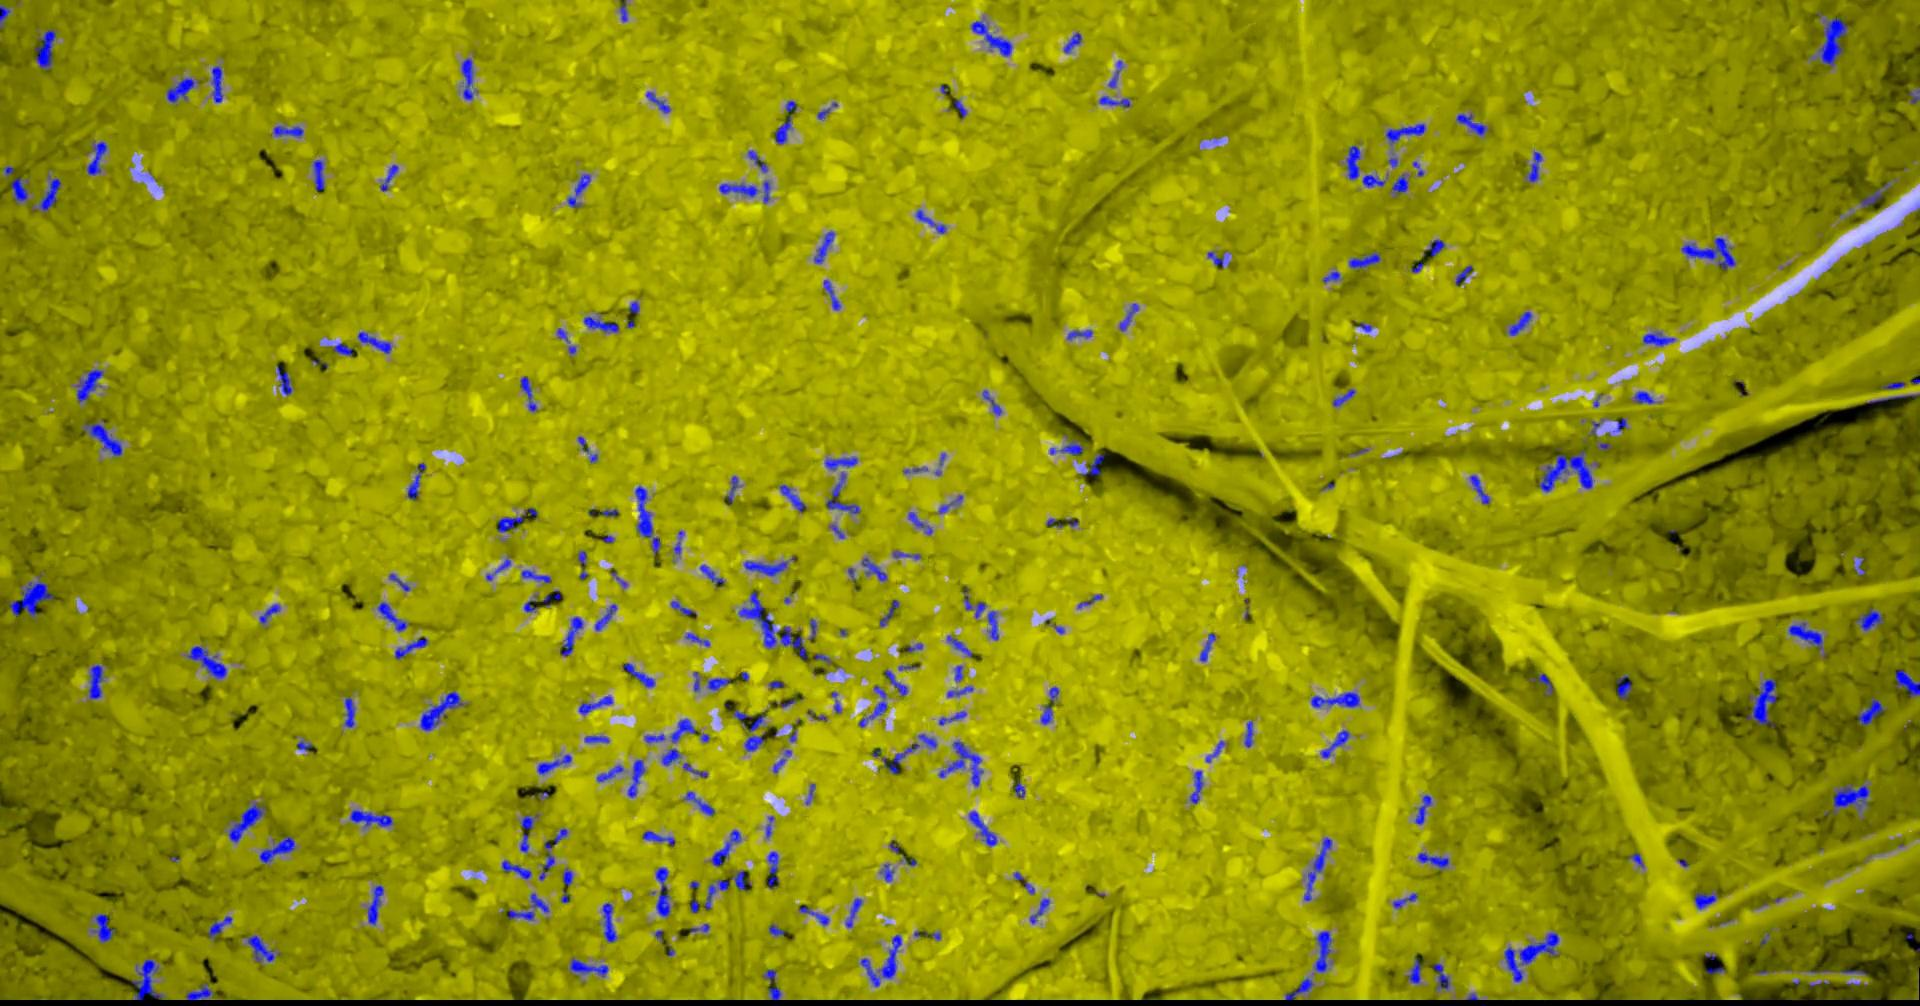ant: (737, 591, 806, 659), (1503, 932, 1559, 982), (1537, 447, 1592, 492), (860, 934, 902, 986), (938, 741, 982, 786), (8, 575, 53, 617), (634, 485, 660, 554), (1303, 837, 1331, 901), (419, 691, 463, 730), (1681, 238, 1735, 269), (1745, 678, 1777, 727), (1817, 17, 1848, 66), (538, 828, 568, 879), (229, 803, 265, 842), (970, 20, 1011, 56), (825, 471, 858, 513), (84, 419, 121, 455), (187, 645, 226, 678), (130, 959, 163, 998), (881, 742, 919, 774), (1831, 782, 1869, 814), (858, 685, 886, 727), (710, 829, 740, 866), (497, 507, 537, 532), (968, 810, 996, 846), (259, 835, 295, 862), (1787, 622, 1822, 649), (775, 100, 796, 144), (559, 616, 582, 655), (377, 602, 406, 631), (76, 370, 103, 401), (248, 935, 279, 962), (622, 662, 655, 687), (1857, 696, 1884, 725), (1385, 123, 1425, 144), (566, 174, 590, 207), (1310, 691, 1359, 708), (523, 589, 560, 611), (778, 484, 806, 512), (1321, 730, 1349, 758), (36, 29, 55, 70), (703, 879, 729, 909), (38, 174, 60, 210), (166, 77, 198, 102), (963, 586, 985, 619), (394, 636, 427, 659), (1859, 182, 1888, 207), (357, 332, 391, 353), (683, 791, 714, 815), (655, 868, 670, 916), (569, 956, 607, 976), (1313, 931, 1331, 972), (349, 809, 392, 826), (91, 913, 116, 942), (916, 210, 946, 232), (813, 231, 834, 263), (731, 709, 763, 730), (743, 560, 787, 575), (1040, 686, 1058, 724), (1895, 669, 1919, 697), (1285, 976, 1313, 1000), (86, 141, 107, 174), (1457, 113, 1487, 135), (408, 462, 425, 499), (537, 754, 571, 774), (1855, 607, 1883, 630), (367, 885, 383, 923), (601, 902, 616, 942), (669, 718, 695, 742), (578, 696, 612, 714), (627, 760, 644, 796), (1469, 474, 1490, 503), (519, 376, 536, 412), (1507, 311, 1531, 335), (207, 915, 231, 939), (907, 511, 932, 533), (485, 558, 510, 580), (861, 558, 886, 580), (884, 669, 907, 695), (1417, 852, 1448, 871), (797, 906, 828, 925), (717, 183, 758, 197), (502, 860, 531, 879), (594, 605, 616, 630), (946, 635, 971, 657), (1528, 673, 1553, 695), (823, 279, 841, 310), (583, 316, 618, 332), (1865, 392, 1919, 403), (762, 969, 780, 1000), (1049, 439, 1083, 455), (1079, 453, 1103, 475), (698, 564, 723, 586), (460, 58, 472, 99), (645, 91, 670, 112), (1029, 898, 1049, 923), (519, 815, 533, 852), (378, 164, 397, 191), (1119, 304, 1138, 330), (879, 600, 898, 626), (1349, 251, 1379, 268), (1415, 794, 1431, 824), (982, 390, 1001, 415), (643, 831, 674, 846), (844, 898, 861, 927), (1345, 145, 1359, 179), (88, 664, 102, 699), (9, 177, 27, 203), (1407, 956, 1425, 983), (276, 365, 291, 395), (1642, 332, 1675, 345), (1199, 633, 1215, 661), (596, 765, 623, 781), (1189, 770, 1203, 803), (1432, 962, 1449, 989), (185, 983, 213, 1000), (747, 150, 767, 171), (938, 495, 963, 513), (211, 65, 222, 102), (767, 851, 778, 888), (744, 730, 764, 751), (1390, 173, 1410, 194), (1205, 741, 1224, 762), (1528, 151, 1542, 180), (1332, 389, 1355, 406), (773, 749, 791, 772), (1693, 892, 1716, 909), (938, 710, 966, 724), (273, 124, 303, 137), (682, 762, 707, 777), (730, 870, 750, 889), (1392, 892, 1417, 907), (1063, 32, 1081, 53), (824, 457, 857, 469), (1109, 60, 1123, 86), (521, 569, 550, 582), (670, 600, 695, 615), (1615, 674, 1630, 699), (312, 159, 324, 191), (530, 893, 549, 912), (389, 573, 409, 591), (259, 605, 279, 622), (724, 475, 737, 503), (1077, 593, 1102, 607), (1098, 95, 1129, 107), (684, 633, 709, 647), (987, 610, 998, 639), (1455, 265, 1472, 285), (662, 748, 681, 765), (344, 696, 354, 727), (1361, 174, 1385, 187), (577, 550, 587, 579), (1427, 239, 1444, 257), (946, 686, 971, 697), (507, 909, 535, 920), (707, 678, 731, 690), (1065, 329, 1092, 339), (917, 733, 936, 747), (879, 862, 893, 882), (331, 342, 352, 354), (1627, 852, 1643, 868), (891, 550, 919, 559), (1633, 391, 1655, 403), (913, 930, 940, 939), (0, 4, 10, 27), (1208, 251, 1223, 267), (587, 508, 617, 516), (952, 99, 966, 116), (1854, 556, 1865, 575), (1244, 720, 1252, 747), (1611, 417, 1625, 431), (618, 0, 627, 22), (1322, 271, 1338, 282), (768, 923, 785, 935), (644, 733, 664, 742), (1015, 780, 1025, 796), (563, 868, 571, 885), (584, 735, 608, 742), (954, 664, 963, 681), (763, 180, 770, 203), (1881, 381, 1903, 387), (1909, 89, 1919, 103), (1705, 967, 1724, 973)
